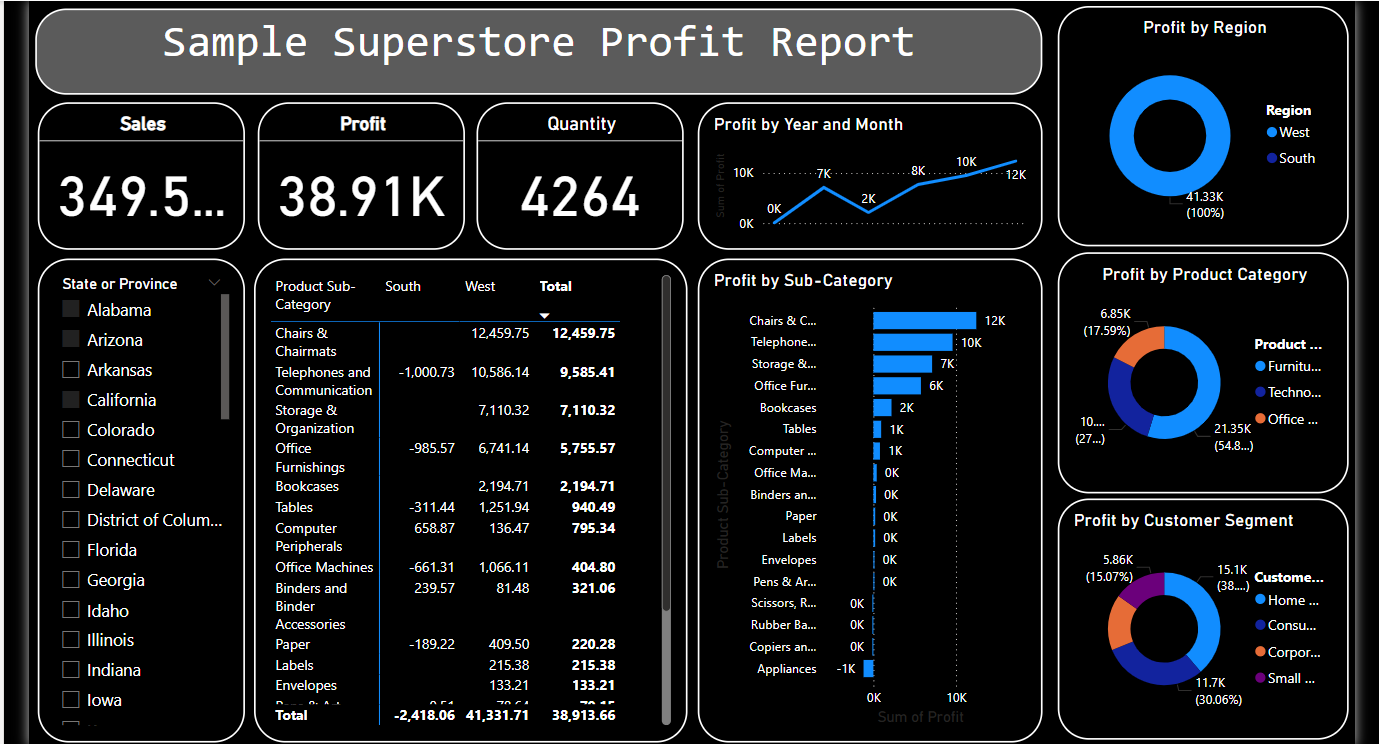

Layout of this report page (visuals, bound fields, positions):
{"tool":"powerbi","page":{"name":"Page 1","canvas":[1280,720],"ordinal":0},"visuals":[{"type":"donutChart","title":"Profit by Region","fields":{"Y":["Sum(Orders.Profit)"],"Category":["Orders.Region"]},"box":[992.9,4.8,281.1,231.6],"z":0},{"type":"donutChart","title":"Profit by Customer Segment","fields":{"Y":["Sum(Orders.Profit)"],"Category":["Orders.Customer Segment"]},"box":[992.9,480.2,281.1,232.8],"z":1000},{"type":"donutChart","title":"Profit by Product Category","fields":{"Category":["Orders.Product Category"],"Y":["Sum(Orders.Profit)"]},"box":[992.9,242.5,281.1,232.8],"z":2000},{"type":"lineChart","title":"Profit by Year and Month","fields":{"Y":["Sum(Orders.Profit)"],"Category":["Orders.Order Date.Variation.Date Hierarchy.Year","Orders.Order Date.Variation.Date Hierarchy.Month"]},"box":[645.4,97.7,333,142.4],"z":3000},{"type":"clusteredBarChart","title":"Profit by Sub-Category","fields":{"Y":["Sum(Orders.Profit)"],"Category":["Orders.Product Sub-Category"]},"box":[645.4,248.5,333,466.9],"z":4000},{"type":"card","title":"Profit","fields":{"Values":["Sum(Orders.Profit)"]},"box":[220.8,97.7,200.3,142.4],"z":5000},{"type":"card","title":"Sales","fields":{"Values":["Sum(Orders.Sales)"]},"box":[8.4,97.7,200.3,142.4],"z":6000},{"type":"card","title":"Quantity","fields":{"Values":["Sum(Orders.Quantity ordered new)"]},"box":[431.9,97.7,200.3,142.4],"z":7000},{"type":"slicer","fields":{"Values":["Orders.State or Province"]},"box":[8.4,248.5,200.3,466.9],"z":8000},{"type":"pivotTable","fields":{"Rows":["Orders.Product Sub-Category"],"Columns":["Orders.Region"],"Values":["Sum(Orders.Profit)"]},"box":[217.2,248.5,418.6,466.9],"z":9000},{"type":"textbox","box":[6,7.2,972.4,83.2],"z":10000}]}

Visuals, with their boxes in screenshot pixels (x1, y1, x2, y2):
"Profit by Region" donutChart: [x1=1055, y1=1, x2=1352, y2=246]
"Profit by Customer Segment" donutChart: [x1=1055, y1=503, x2=1352, y2=743]
"Profit by Product Category" donutChart: [x1=1055, y1=252, x2=1352, y2=498]
"Profit by Year and Month" lineChart: [x1=688, y1=100, x2=1040, y2=250]
"Profit by Sub-Category" clusteredBarChart: [x1=688, y1=259, x2=1040, y2=743]
"Profit" card: [x1=240, y1=100, x2=452, y2=250]
"Sales" card: [x1=16, y1=100, x2=227, y2=250]
"Quantity" card: [x1=463, y1=100, x2=675, y2=250]
slicer - Orders.State or Province: [x1=16, y1=259, x2=227, y2=743]
pivotTable - Orders.Product Sub-Category x Orders.Region: [x1=236, y1=259, x2=678, y2=743]
textbox: [x1=14, y1=4, x2=1040, y2=92]
